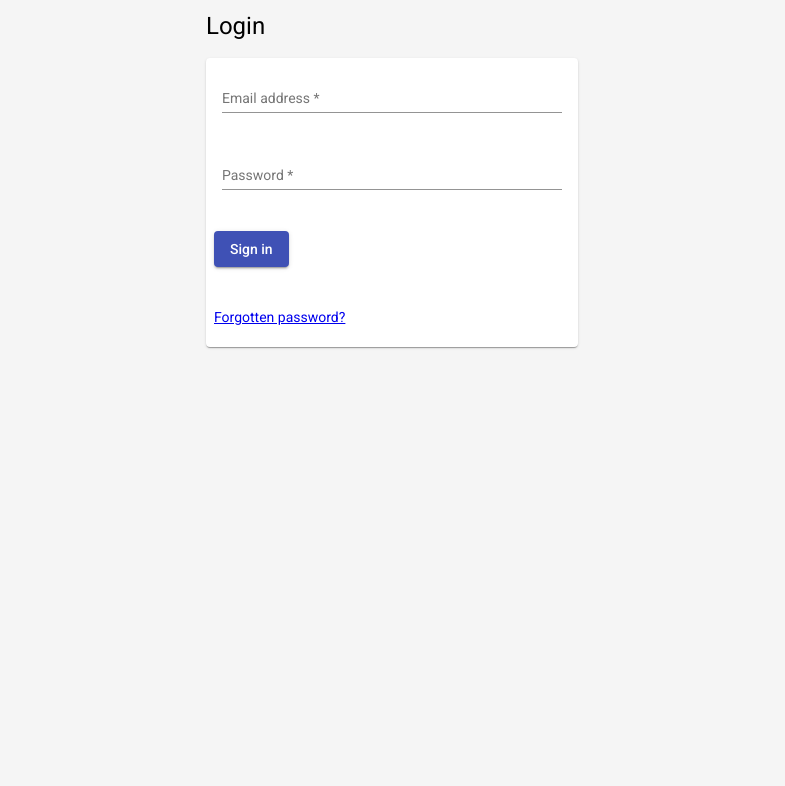
Scenario: /login › As a user, I need to be able to log out of the application
Type "test@carelinelive.com" into the field with test id "Email" at (392,99), box [222,91,562,107]
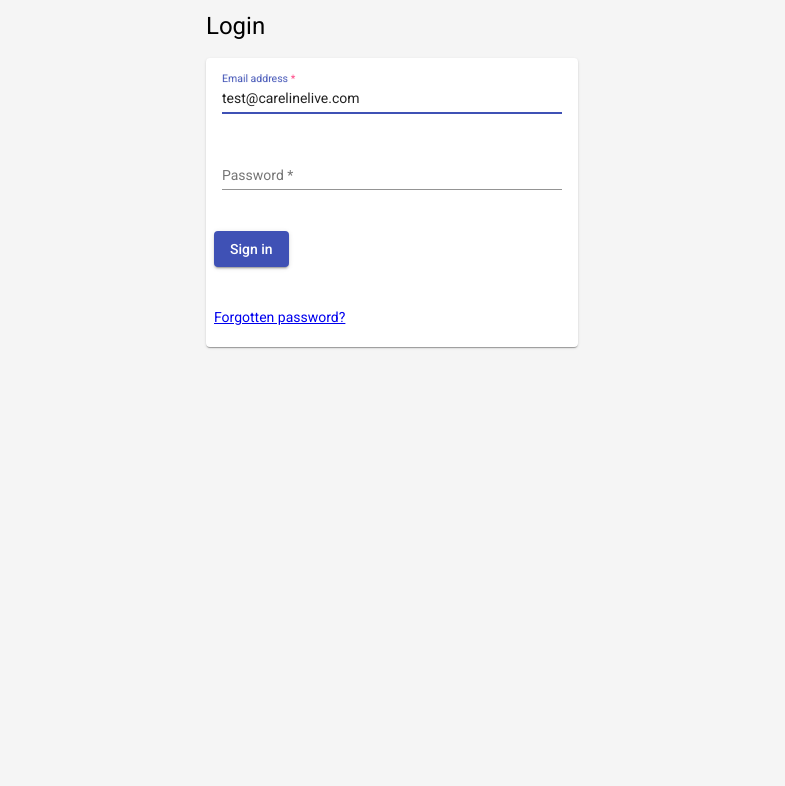
Type "password" into the password field with test id "Password" at (392,176), box [222,168,562,184]
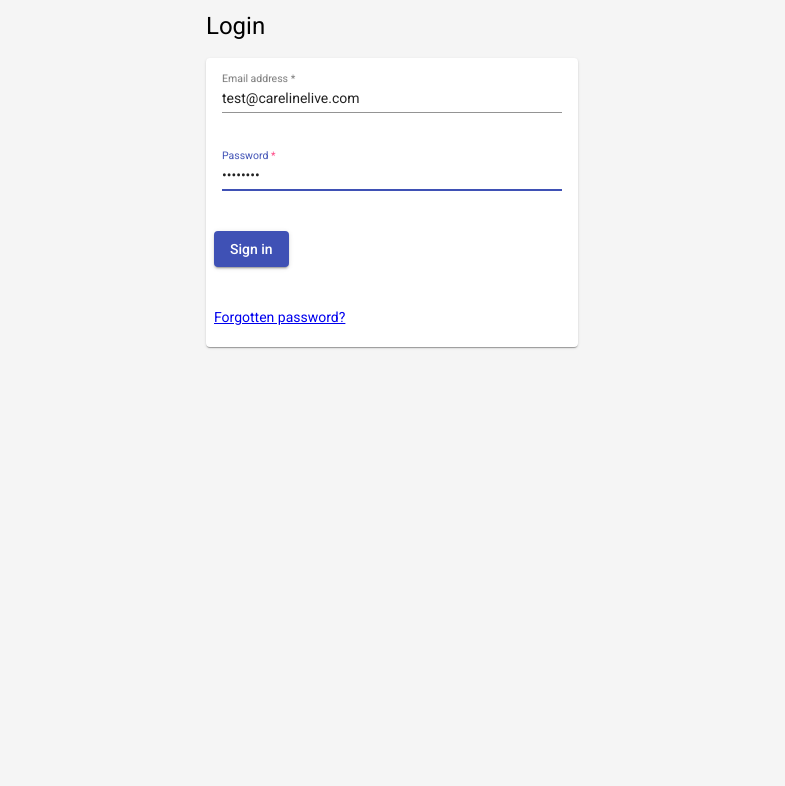
Click the button with test id "Submit" at (252,249), box [214,231,289,267]
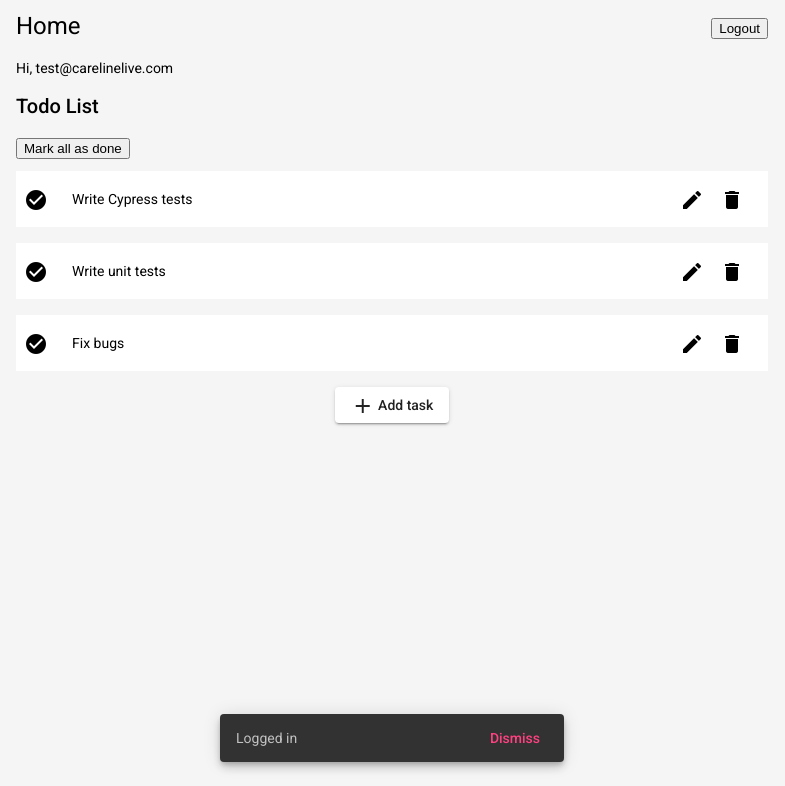
Click the button with test id "Logout" at (740,29), box [711,18,768,39]
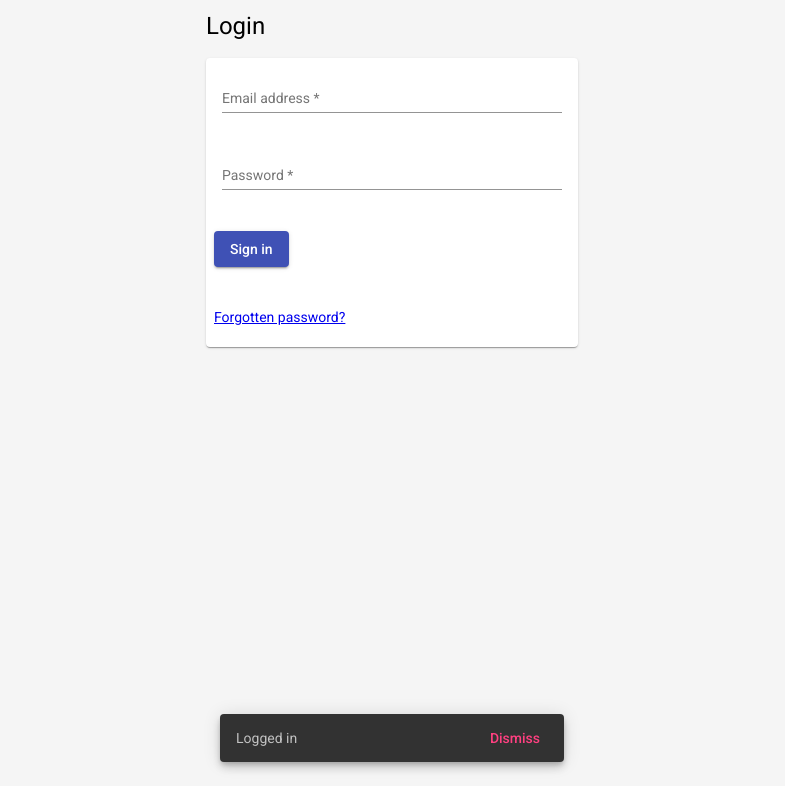
Now the form with test id "Login" is shown, box [206,58,578,347]
